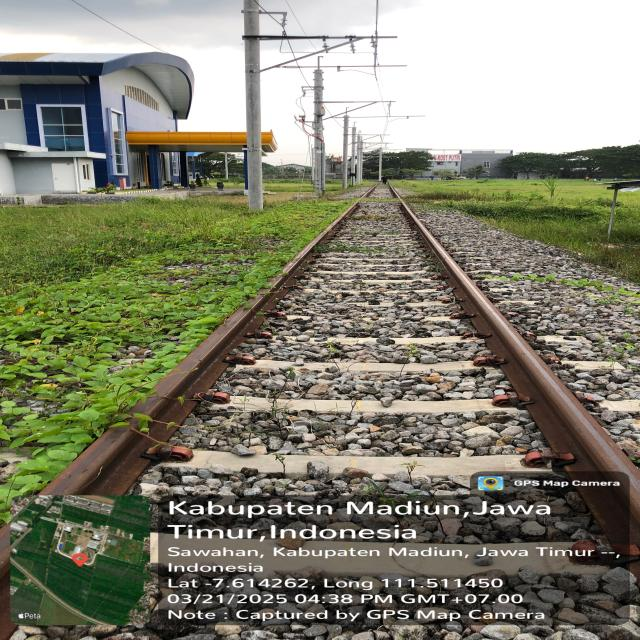rail-detection: (396, 202, 640, 555), (157, 203, 364, 397), (50, 430, 139, 492)
